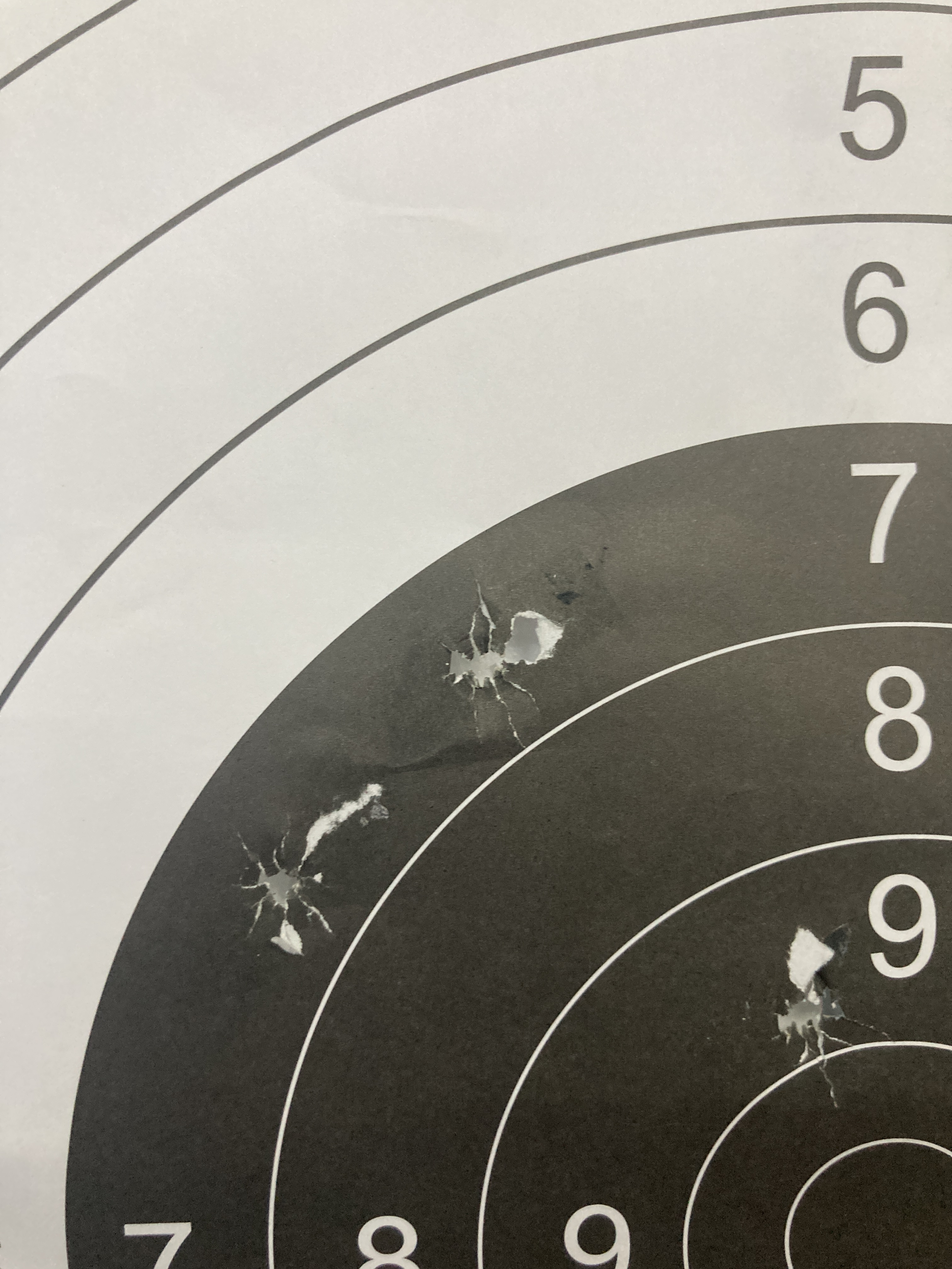hole: (425, 592, 554, 730), (756, 973, 891, 1092), (242, 831, 340, 941)
